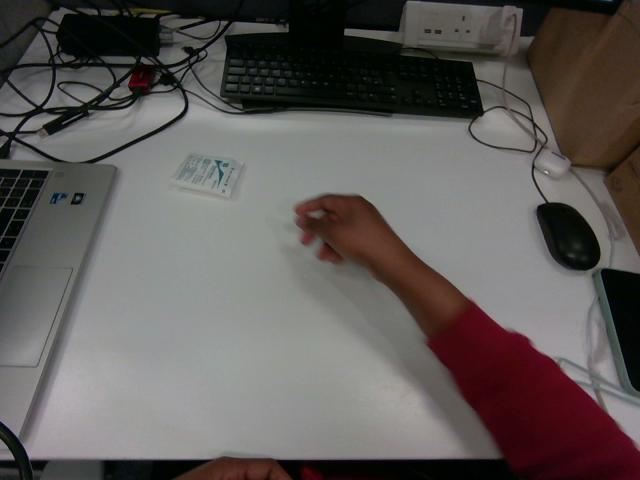gauze: (171, 154, 242, 197)
